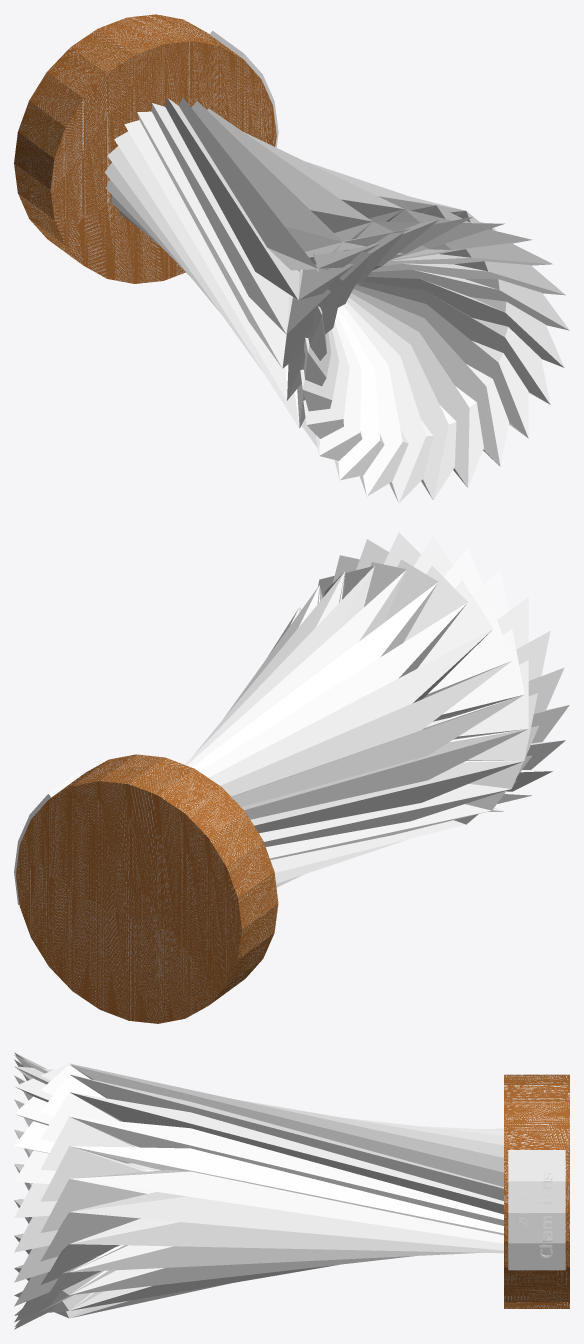
3 views of the same model, one above another, from view 1: azimuth 30°, elevation 25°; view 2: azimuth 150°, elevation 25°; view 3: azimuth 270°, elevation 25° (orthographic). The views are drawn at different scales.
Parts seen in each view (by area): view 1: trophy; view 2: trophy; view 3: trophy.
Part boxes in pixels (<box>): trophy: <box>14,14,569,503</box>; trophy: <box>14,532,569,1023</box>; trophy: <box>14,1052,569,1329</box>.
Bounding box in the file's own units: 10744 × 10744 × 21480.
